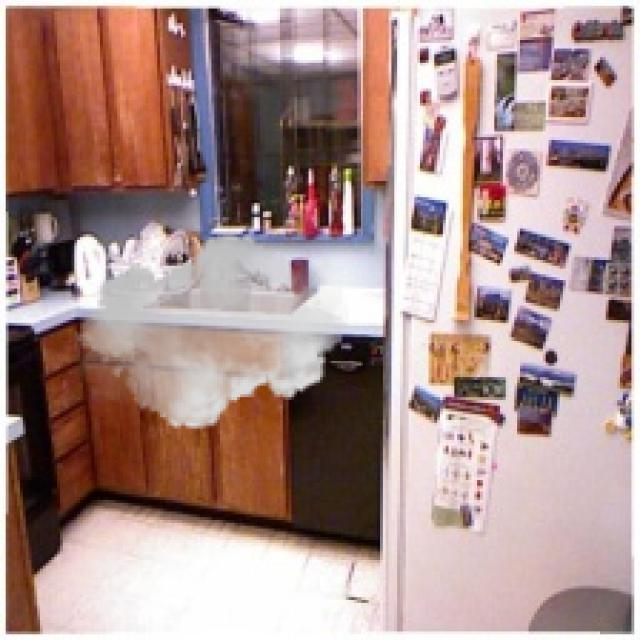smoke: (74, 226, 349, 437)
